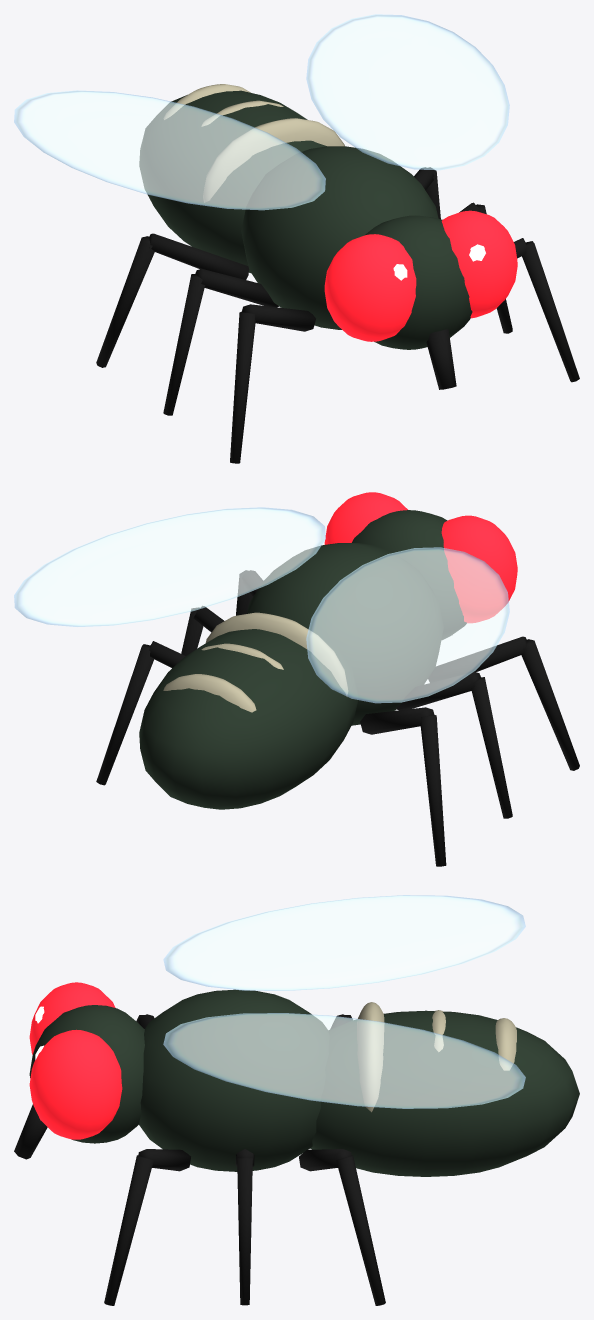
The model's file is fly.glb.
3 renders of one model, top to bottom at view 1: azimuth 30°, elevation 25°; view 2: azimuth 150°, elevation 25°; view 3: azimuth 270°, elevation 25°, orthographic.
Visible parts, largest first — view 1: Mosca, WingR, WingL; view 2: Mosca, WingL, WingR; view 3: Mosca, WingL, WingR.
Boxes of the visible parts, box(x1,y1,x2,y2) form: Mosca: box(96, 84, 579, 463); WingR: box(14, 90, 325, 210); WingL: box(306, 14, 509, 170); Mosca: box(96, 492, 579, 866); WingL: box(14, 507, 325, 626); WingR: box(306, 547, 509, 703); Mosca: box(14, 982, 579, 1305); WingL: box(163, 1013, 525, 1108); WingR: box(163, 895, 525, 990).
Bounding box in the file's own units: 0.0279 × 0.0138 × 0.0313.
